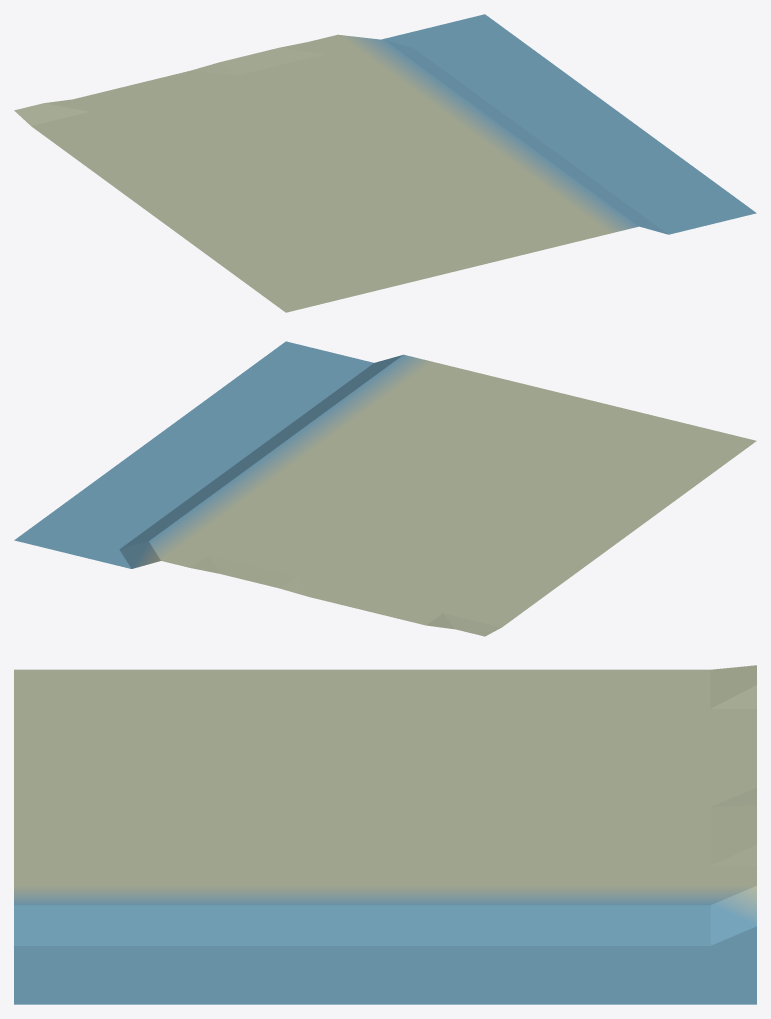
The picture shows the model from 3 angles, top to bottom: view 1: azimuth 30°, elevation 25°; view 2: azimuth 150°, elevation 25°; view 3: azimuth 270°, elevation 25°; orthographic projection. The views are drawn at different scales.
Size of the model in its own units: 32 by 1.21 by 32.
